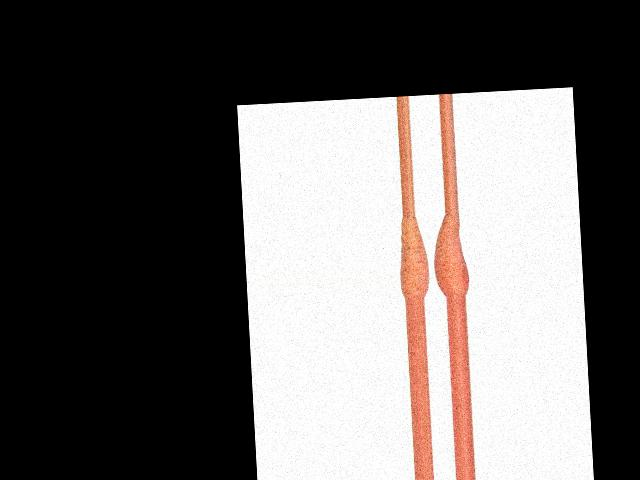sweet_potato: (398, 217, 430, 299)
